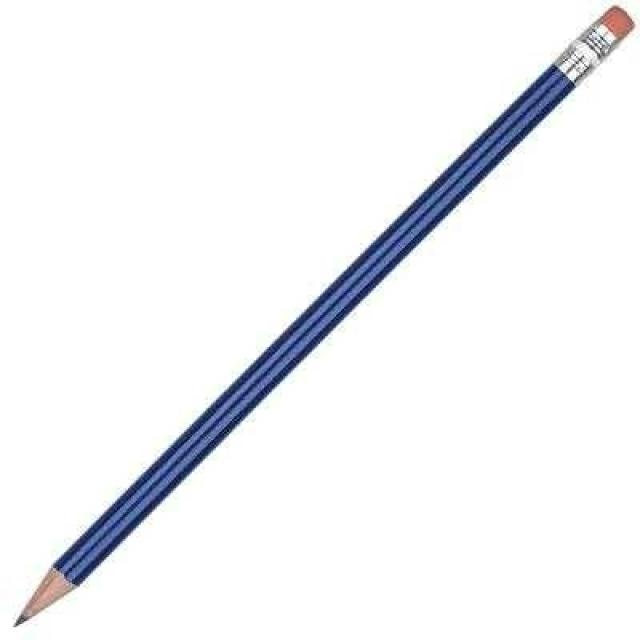pencil: (0, 1, 638, 638)
